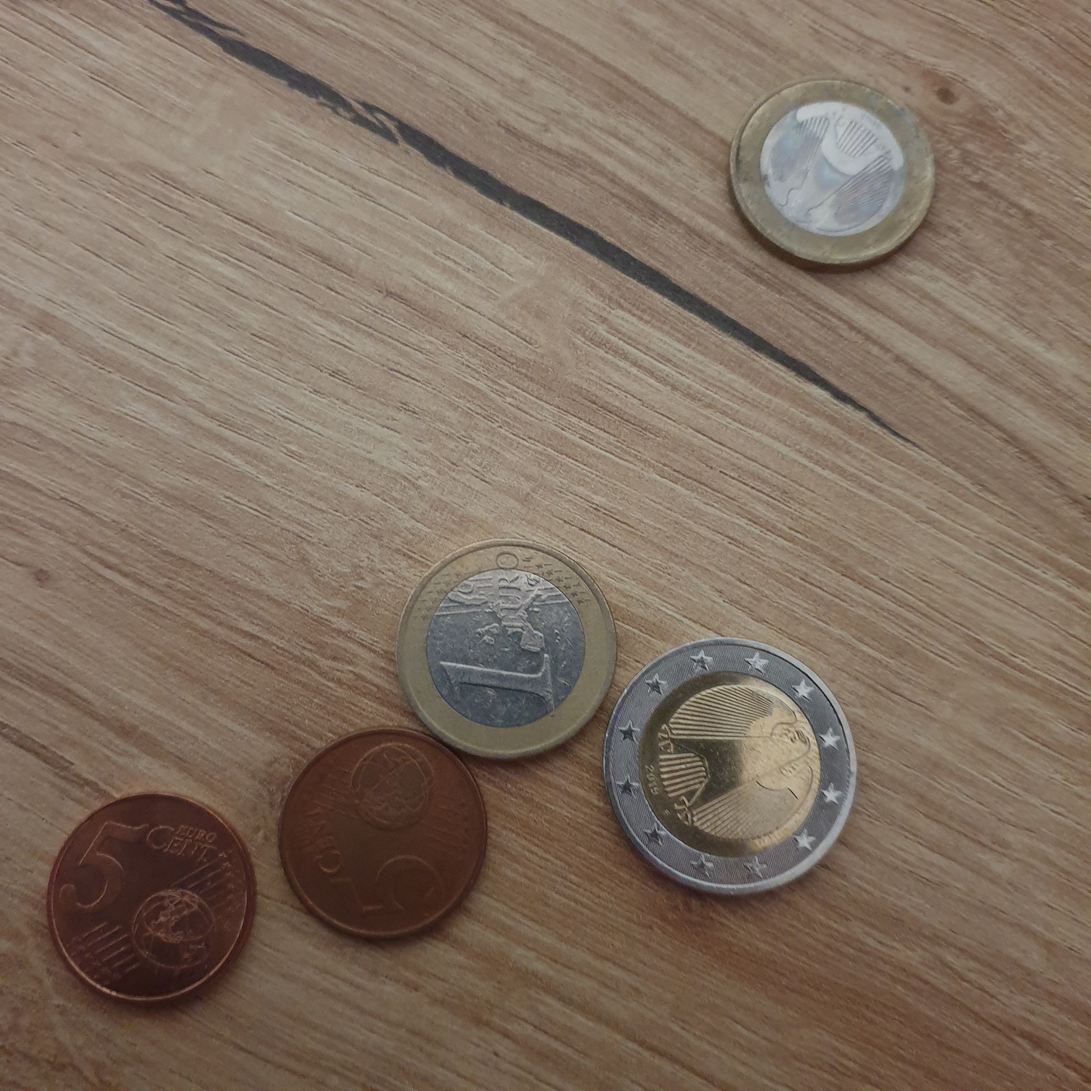1 euro: (382, 530, 625, 762), (717, 67, 945, 269)
2 euro: (601, 638, 860, 901)
5 cent: (43, 784, 265, 1015), (268, 726, 501, 946)
